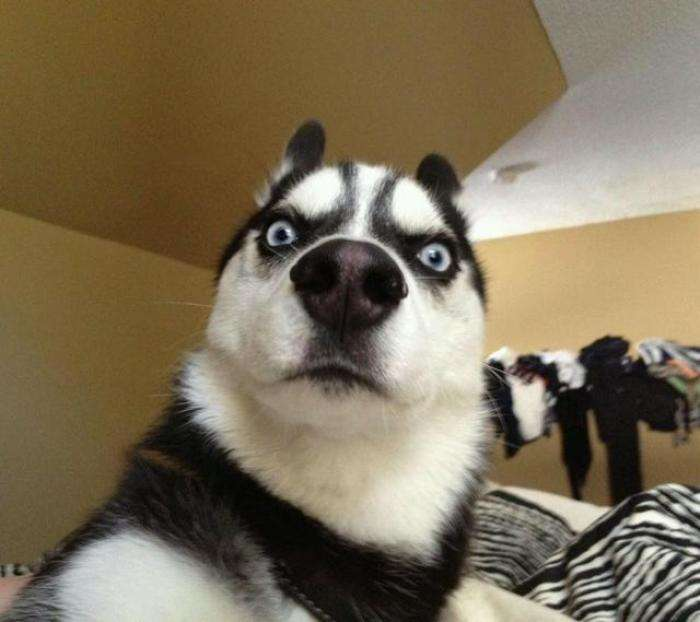dog: (186, 116, 495, 493)
